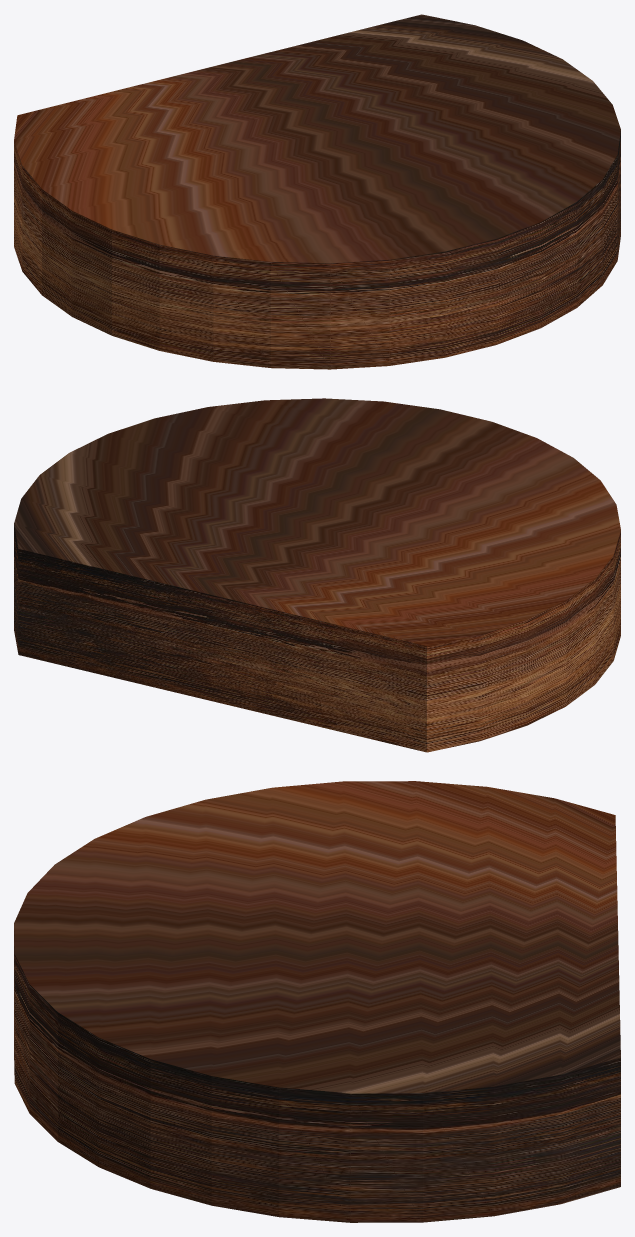
The model's file is blackstone.glb.
The picture shows the model from 3 angles, top to bottom: view 1: azimuth 30°, elevation 25°; view 2: azimuth 150°, elevation 25°; view 3: azimuth 270°, elevation 25°; orthographic projection. The views are drawn at different scales.
Visible parts, largest first — view 1: Cylinder.003; view 2: Cylinder.003; view 3: Cylinder.003.
Part boxes in pixels (bbox=[...]): Cylinder.003: bbox=[14, 14, 620, 369]; Cylinder.003: bbox=[14, 398, 620, 752]; Cylinder.003: bbox=[14, 781, 620, 1222].
Size of the model in its own units: 3.28 by 0.6359 by 2.7.
1 material, 1 textured.
